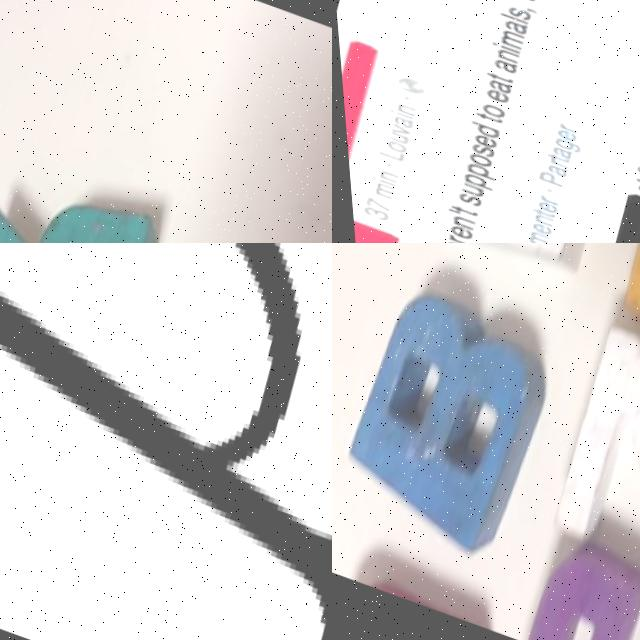3: (356, 195, 384, 211)
B: (332, 274, 559, 550)
K: (0, 149, 179, 243)
Z: (521, 307, 640, 607)
